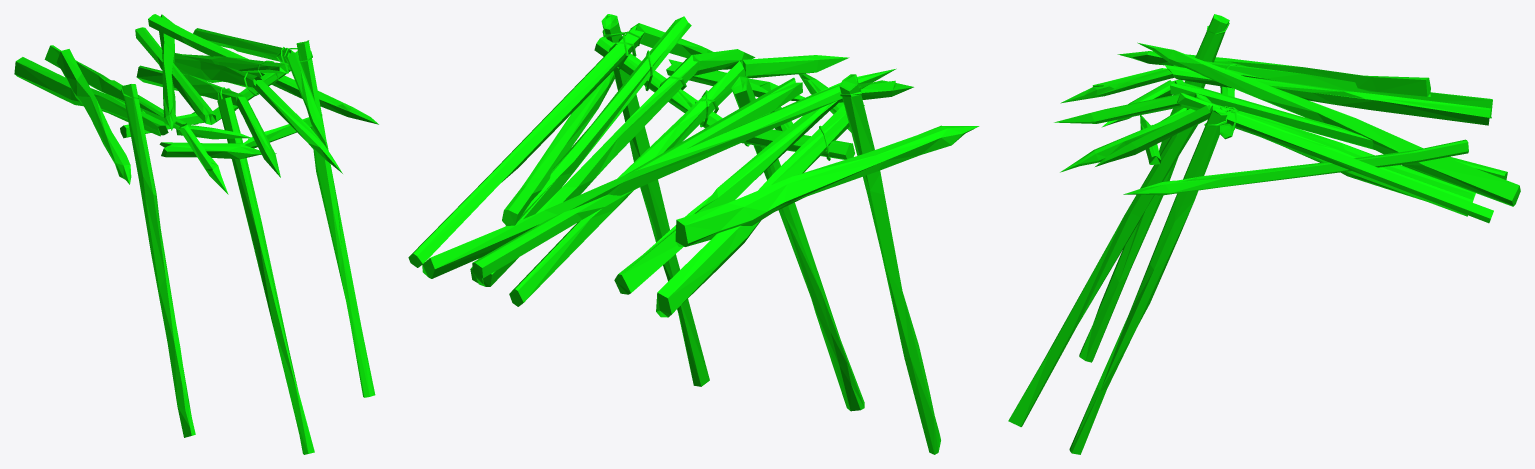
The model's file is SM_Barricade_Directional_B_Broken.fbx.
3 renders of one model, left to right at view 1: azimuth 30°, elevation 25°; view 2: azimuth 150°, elevation 25°; view 3: azimuth 270°, elevation 25°, orthographic. The views are drawn at different scales.
Parts seen in each view (by area): view 1: barricade-directional-b-broken; view 2: barricade-directional-b-broken; view 3: barricade-directional-b-broken.
Boxes of the visible parts, x1,y1,x2,y2 form: barricade-directional-b-broken: (14, 14, 378, 454); barricade-directional-b-broken: (408, 14, 979, 454); barricade-directional-b-broken: (1008, 14, 1520, 454).
Bounding box in the file's own units: 4.09 × 5.08 × 6.49.
